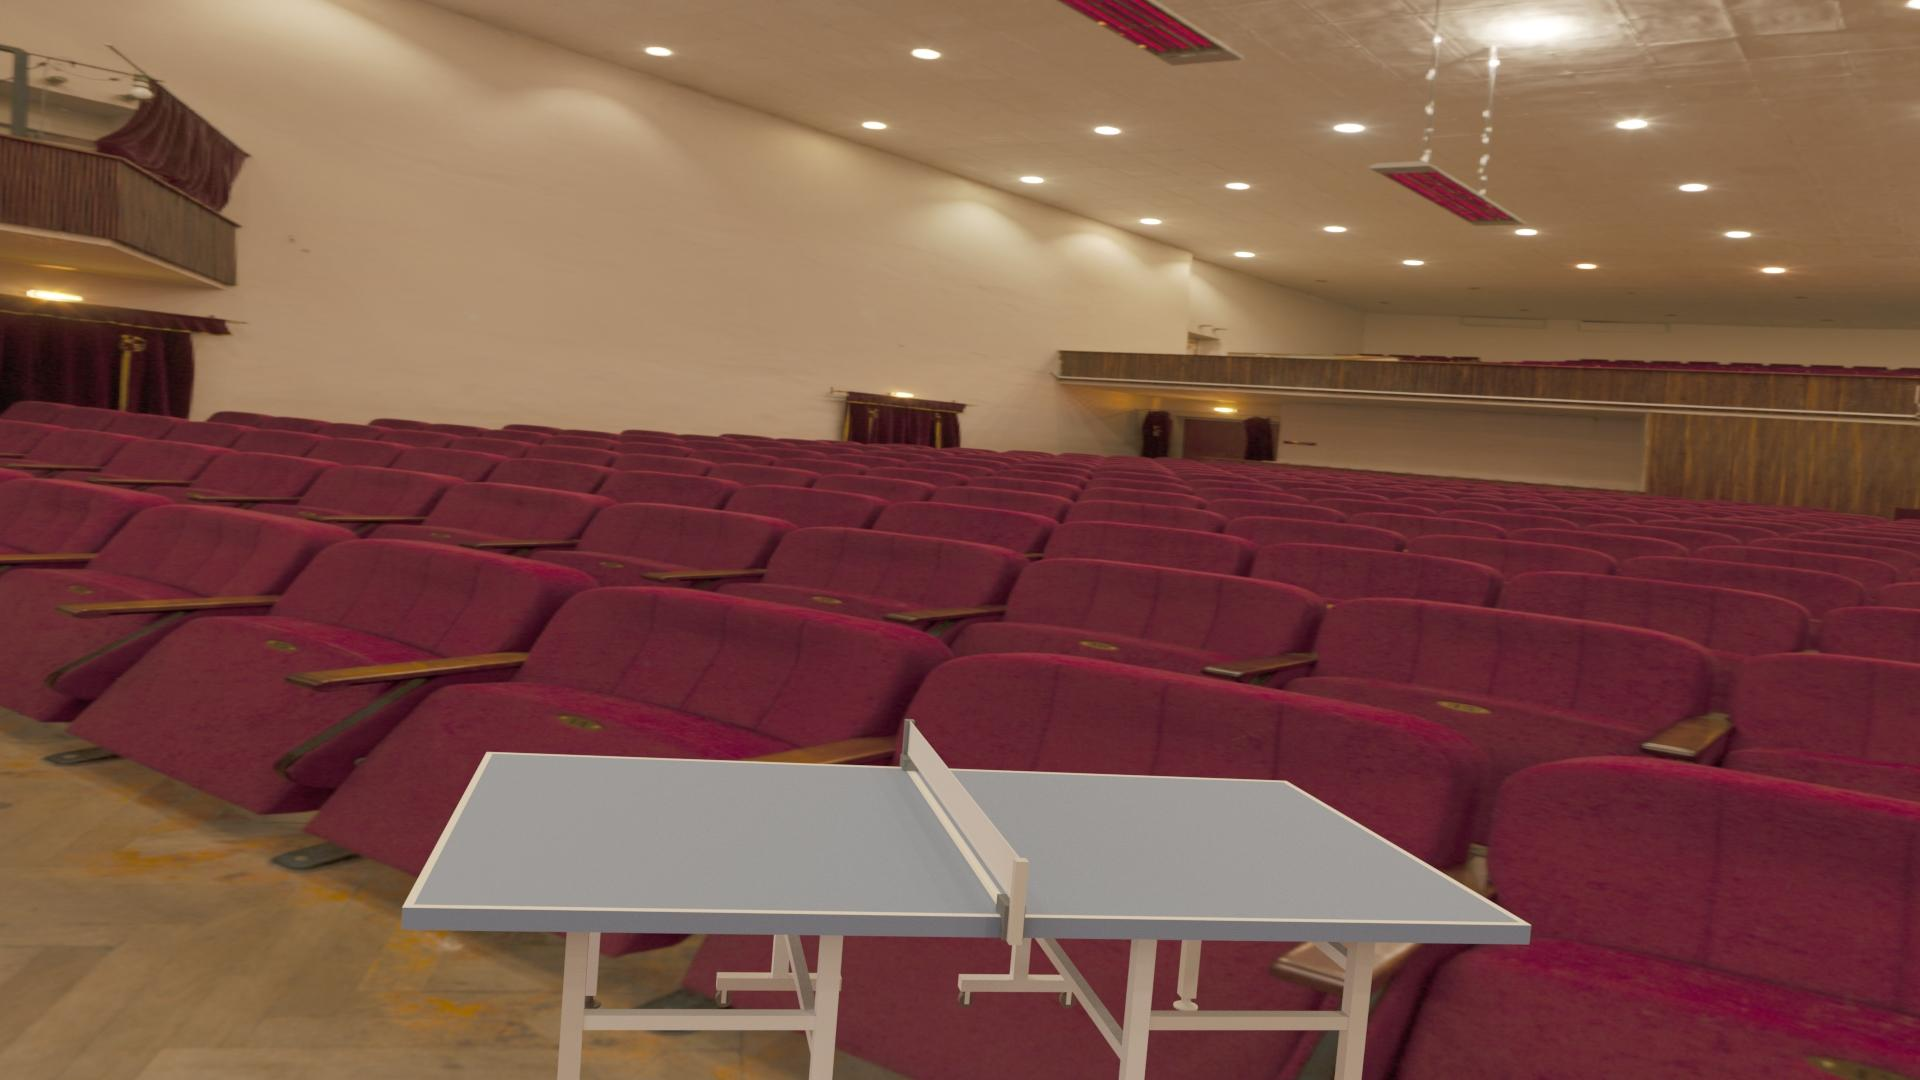table: (414, 754, 1520, 923)
